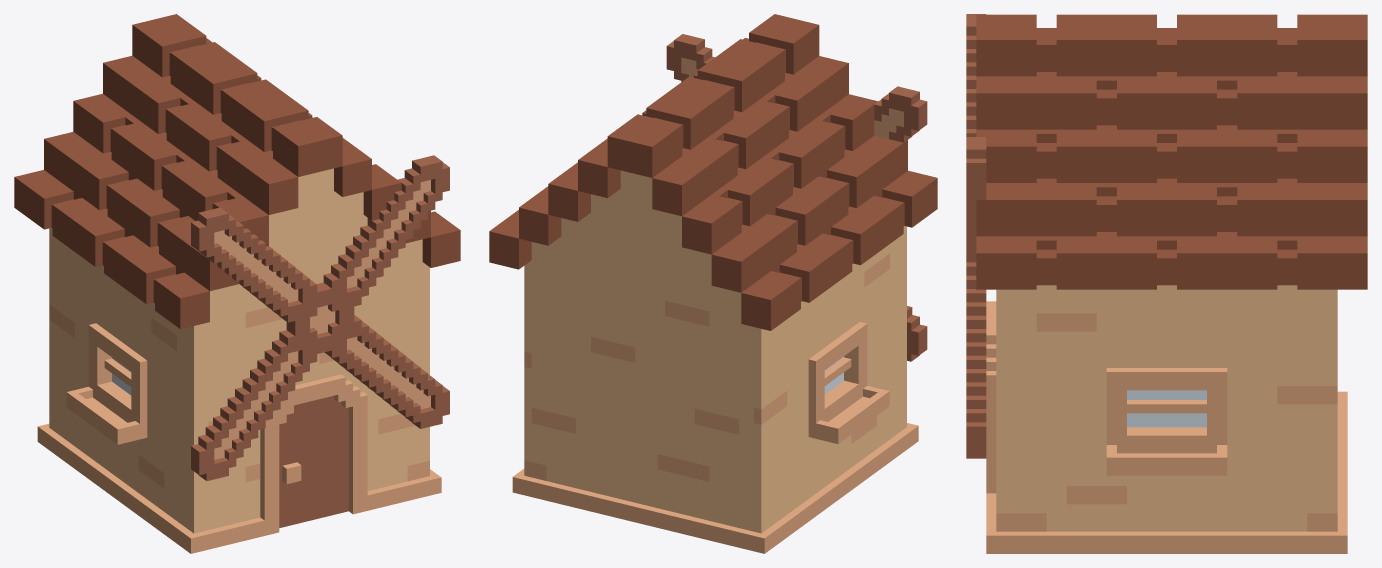
Rendered from village_house_4.obj.
The picture shows the model from 3 angles, left to right: view 1: azimuth 30°, elevation 25°; view 2: azimuth 150°, elevation 25°; view 3: azimuth 270°, elevation 25°; orthographic projection. The views are drawn at different scales.
Size of the model in its own units: 4 by 5 by 4.
Materials: 1 (1 with a texture image).
